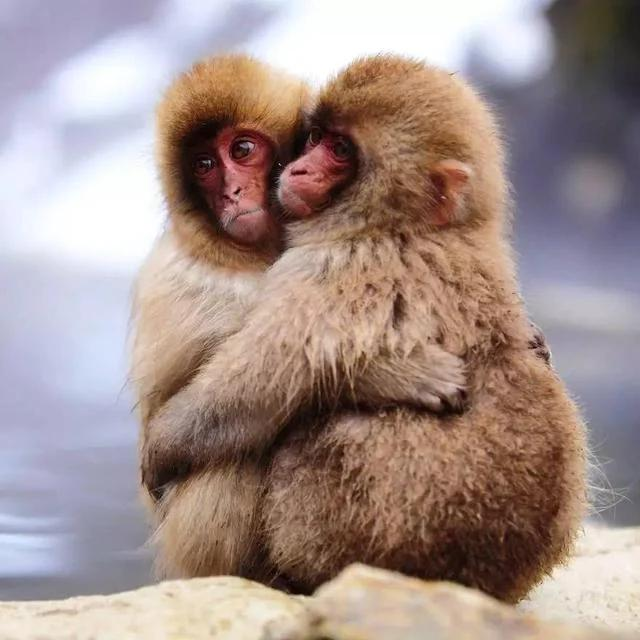animal: (293, 73, 589, 583), (124, 73, 321, 539)
